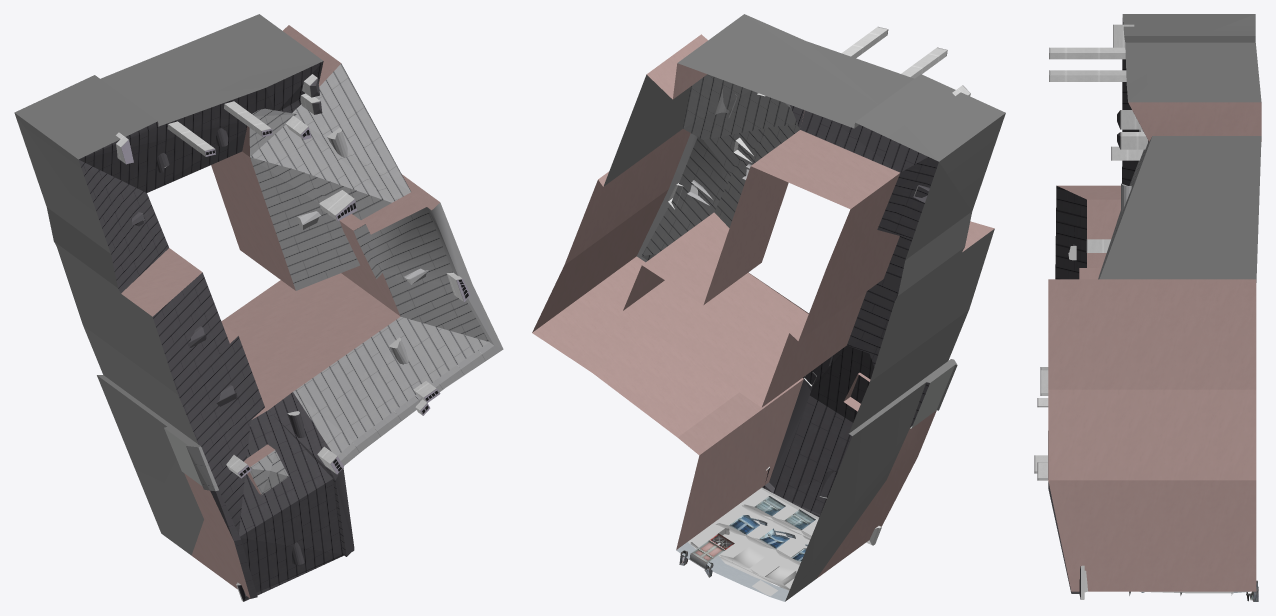
File: Dunkri_4-origo.obj
The picture shows the model from 3 angles, left to right: view 1: azimuth 30°, elevation 25°; view 2: azimuth 150°, elevation 25°; view 3: azimuth 270°, elevation 25°; orthographic projection. The views are drawn at different scales.
Visible parts, largest first — view 1: Dunkri_4; view 2: Dunkri_4; view 3: Dunkri_4.
Part boxes in pixels (<box>): Dunkri_4: <box>14,14,503,601</box>; Dunkri_4: <box>532,14,1005,601</box>; Dunkri_4: <box>1034,14,1261,601</box>.
Bounding box in the file's own units: 33.88 × 41.5 × 16.46.
